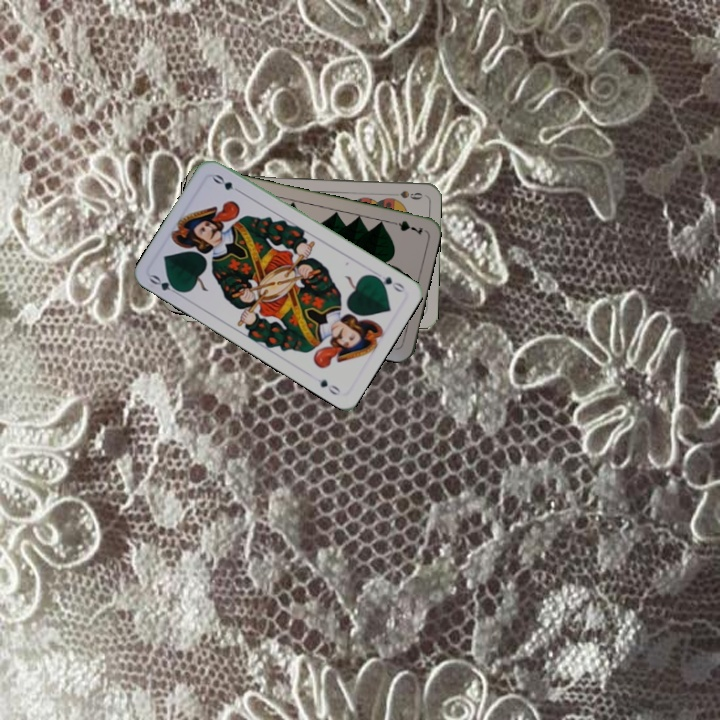G7: (385, 217, 425, 237)
GO: (145, 271, 185, 299), (369, 271, 408, 295)
S9: (385, 186, 425, 203)
